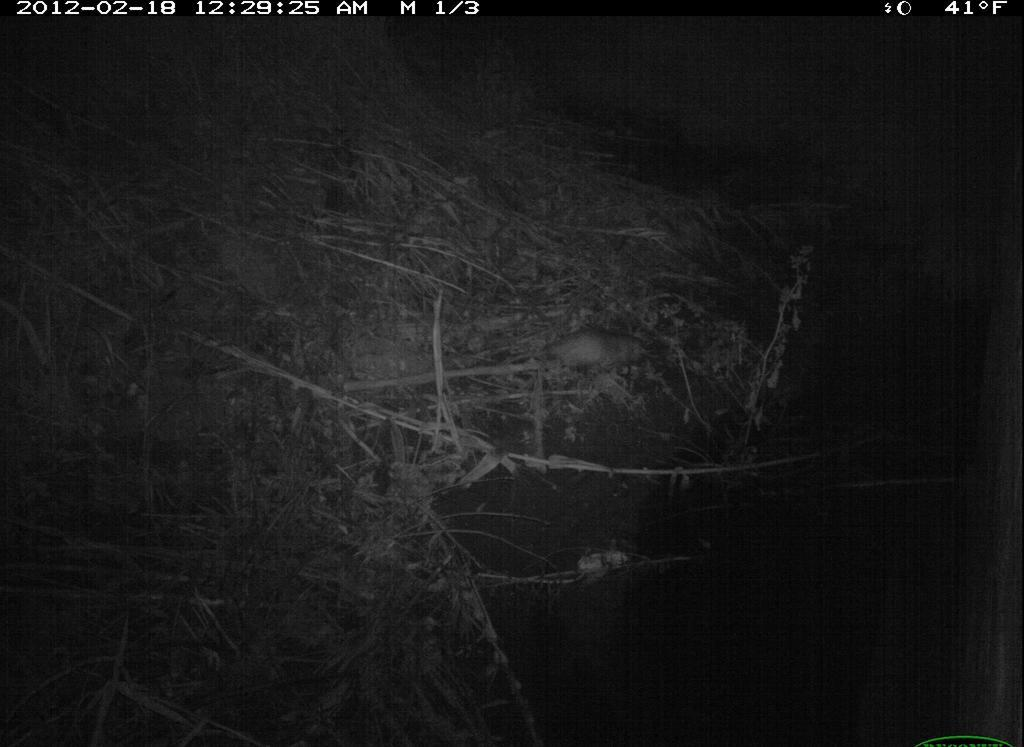opossum: (510, 315, 676, 396)
